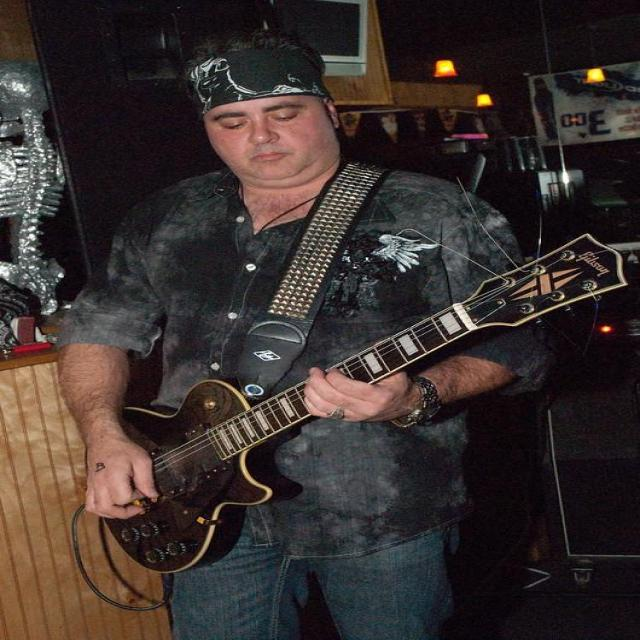guitar: (106, 380, 309, 572)
